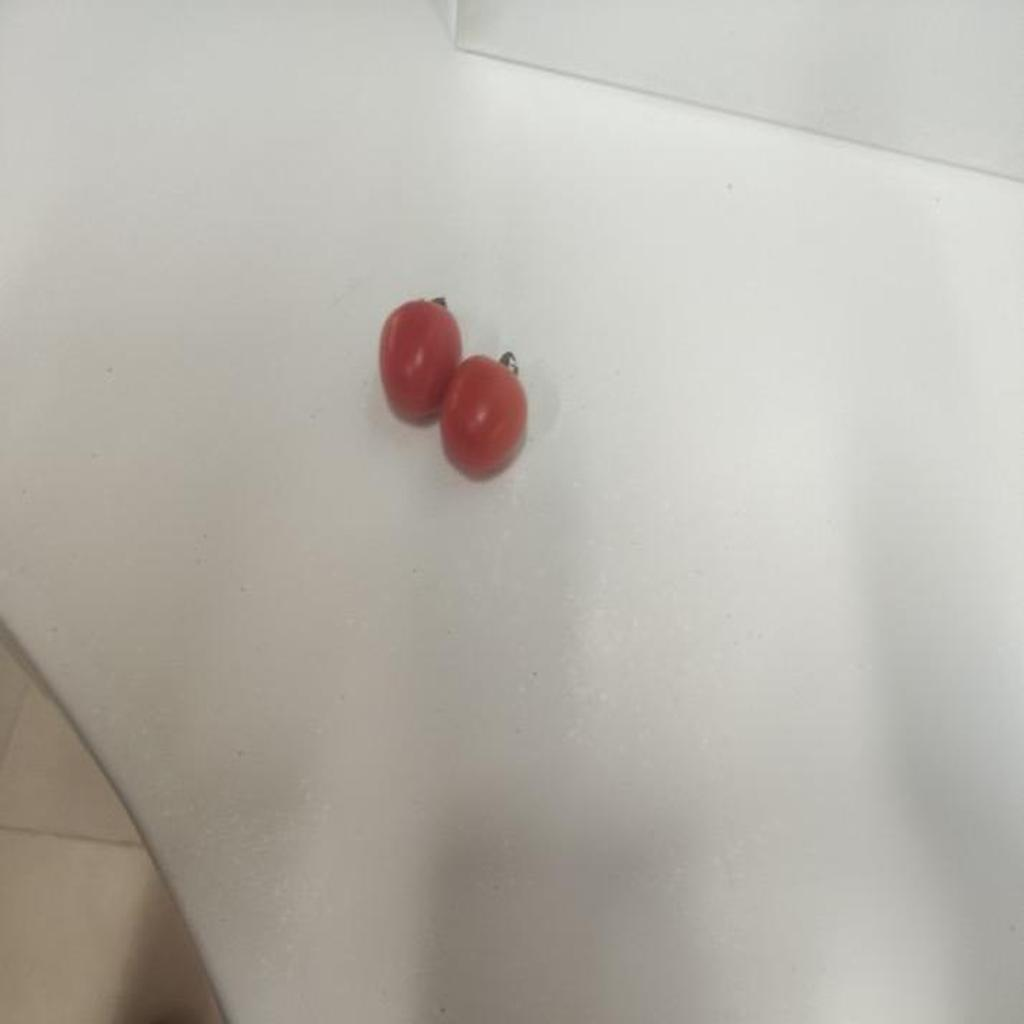tomato: (380, 293, 461, 415), (447, 357, 530, 472)
